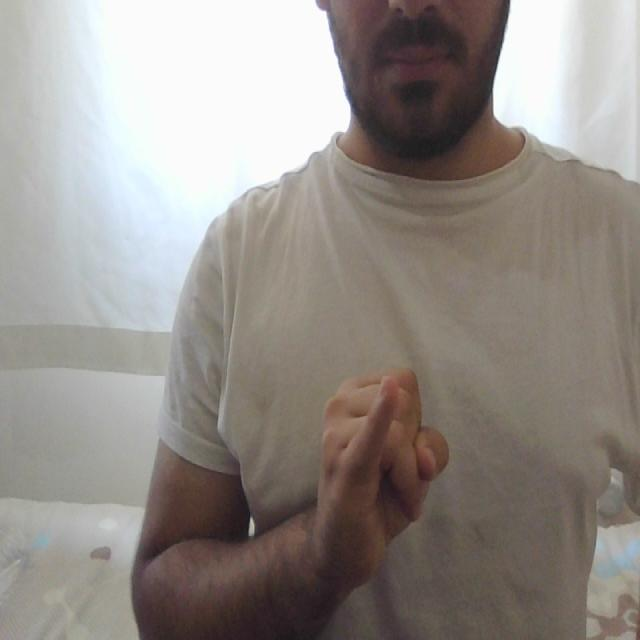kotu: (304, 351, 457, 544)
